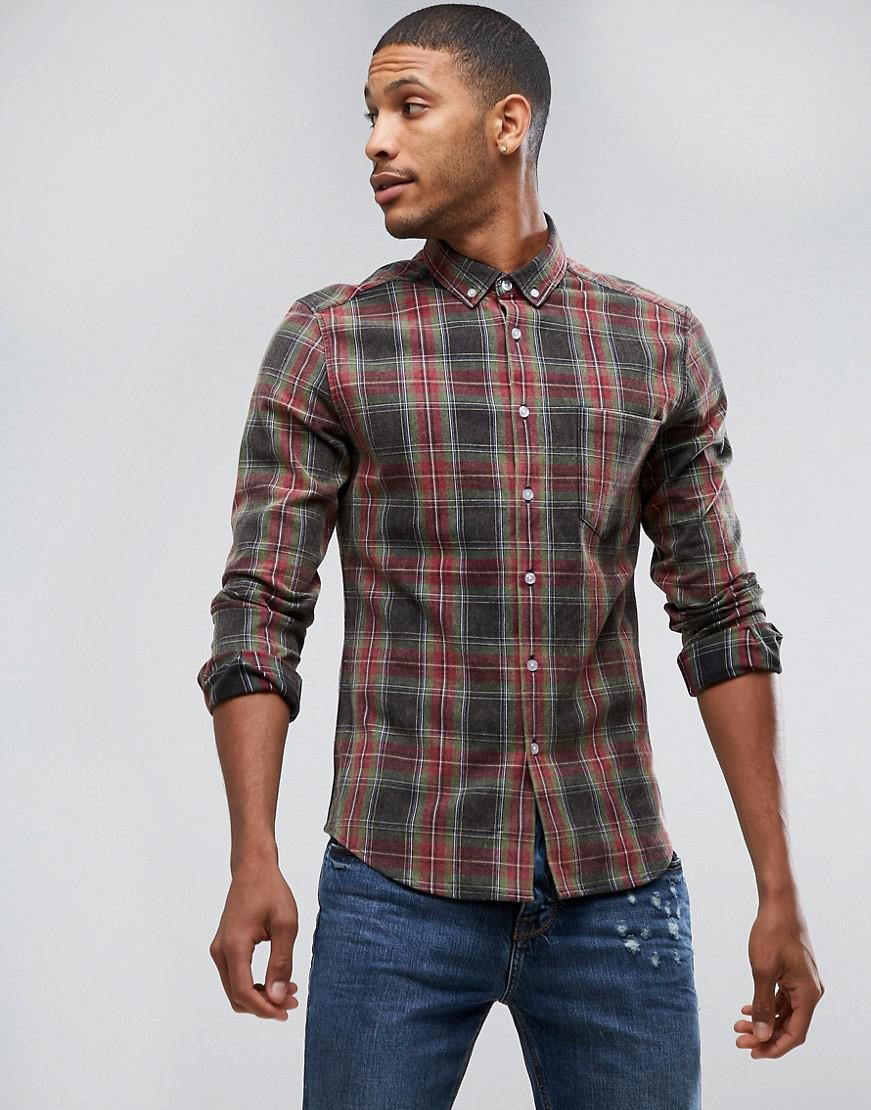teeshirt: (208, 229, 779, 935)
